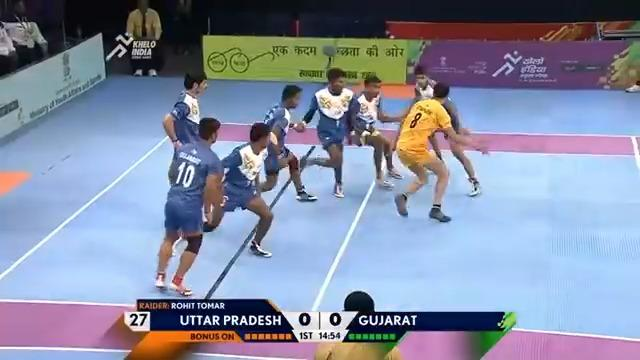Player: (171, 121, 280, 258), (153, 116, 225, 295), (308, 176, 378, 311), (296, 67, 357, 198), (257, 84, 318, 201), (346, 74, 406, 189), (162, 70, 208, 154)
Raider: (391, 82, 474, 224)
referee: (313, 290, 406, 359), (124, 0, 163, 76)
